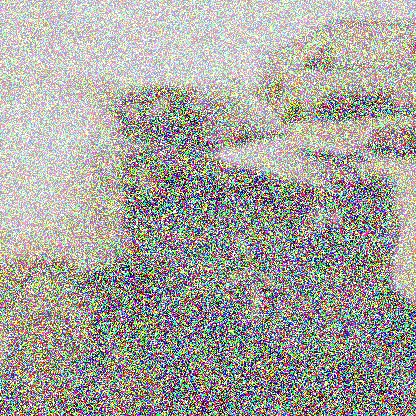Vehicle: (83, 84, 400, 336)
